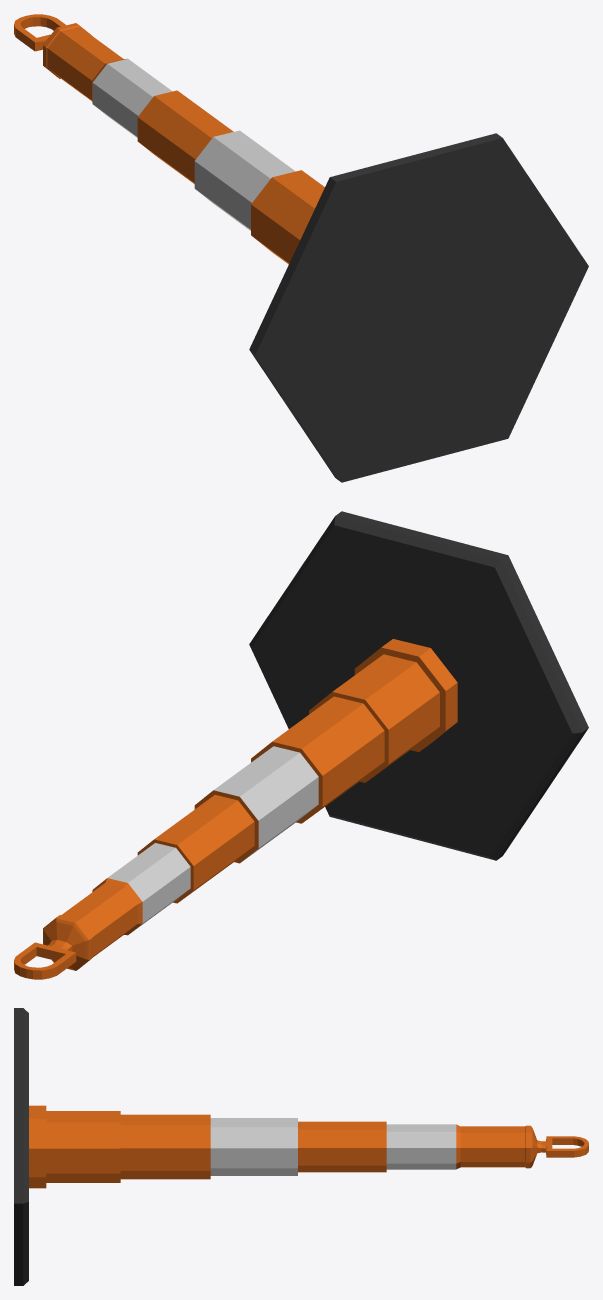
Rendered from Construction_Sign_02.fbx.
3 views of the same model, one above another, from view 1: azimuth 30°, elevation 25°; view 2: azimuth 150°, elevation 25°; view 3: azimuth 270°, elevation 25° (orthographic). The views are drawn at different scales.
Visible parts, largest first — view 1: Construction_Sign_02; view 2: Construction_Sign_02; view 3: Construction_Sign_02.
Part boxes in pixels (x1,y1,x2,y2): Construction_Sign_02: [14, 14, 588, 482]; Construction_Sign_02: [14, 511, 588, 979]; Construction_Sign_02: [14, 1008, 588, 1285].
Bounding box in the file's own units: 0.6588 × 0.5769 × 1.36.
